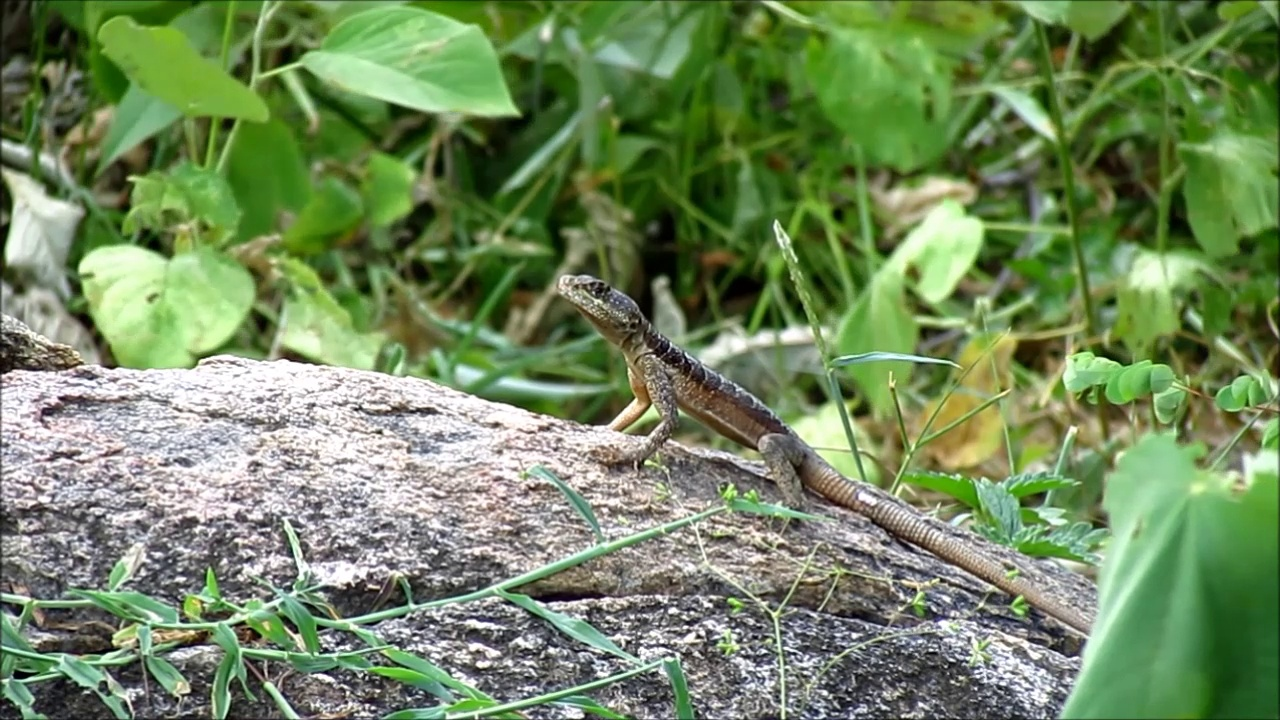body: (592, 318, 1092, 636)
head: (557, 275, 643, 342)
